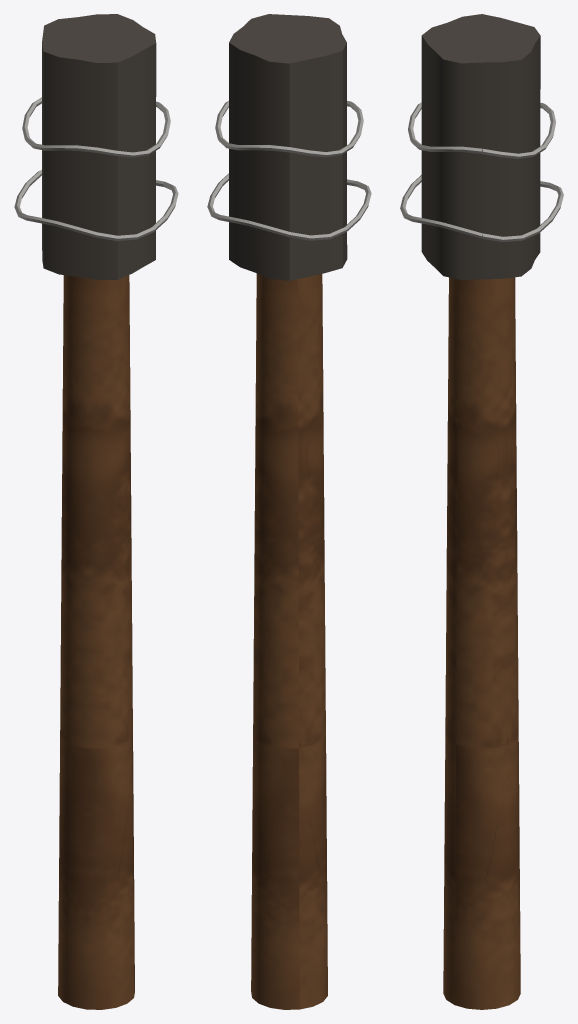
File: fire_torch.glb
3 views of the same model, side by side, from view 1: azimuth 30°, elevation 25°; view 2: azimuth 150°, elevation 25°; view 3: azimuth 270°, elevation 25° (orthographic).
Visible parts, largest first — view 1: FireTorch_Clean_handle, FireTorch_Clean_rag, FireTorch_Clean_wire; view 2: FireTorch_Clean_handle, FireTorch_Clean_rag, FireTorch_Clean_wire; view 3: FireTorch_Clean_handle, FireTorch_Clean_rag, FireTorch_Clean_wire.
Boxes of the visible parts, x1,y1,x2,y2 form: FireTorch_Clean_handle: [58, 275, 134, 1009]; FireTorch_Clean_rag: [42, 14, 156, 279]; FireTorch_Clean_wire: [14, 97, 178, 240]; FireTorch_Clean_handle: [251, 273, 327, 1009]; FireTorch_Clean_rag: [229, 14, 347, 280]; FireTorch_Clean_wire: [207, 101, 371, 240]; FireTorch_Clean_handle: [443, 277, 520, 1009]; FireTorch_Clean_rag: [421, 14, 540, 280]; FireTorch_Clean_wire: [400, 102, 563, 242].
Bounding box in the file's own units: 0.0685 × 0.44 × 0.0685.
Materials: 3 (1 with a texture image).
